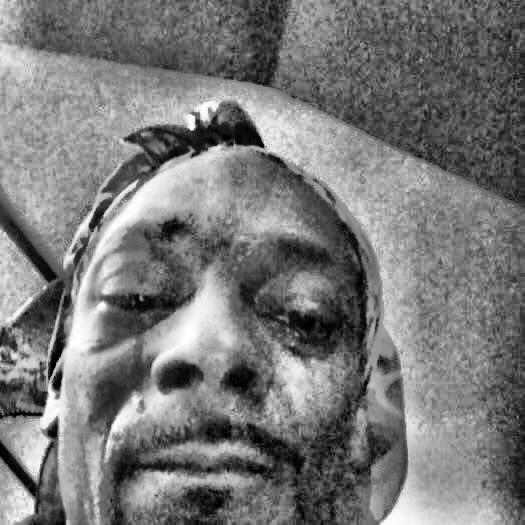sad: (82, 164, 359, 525)
